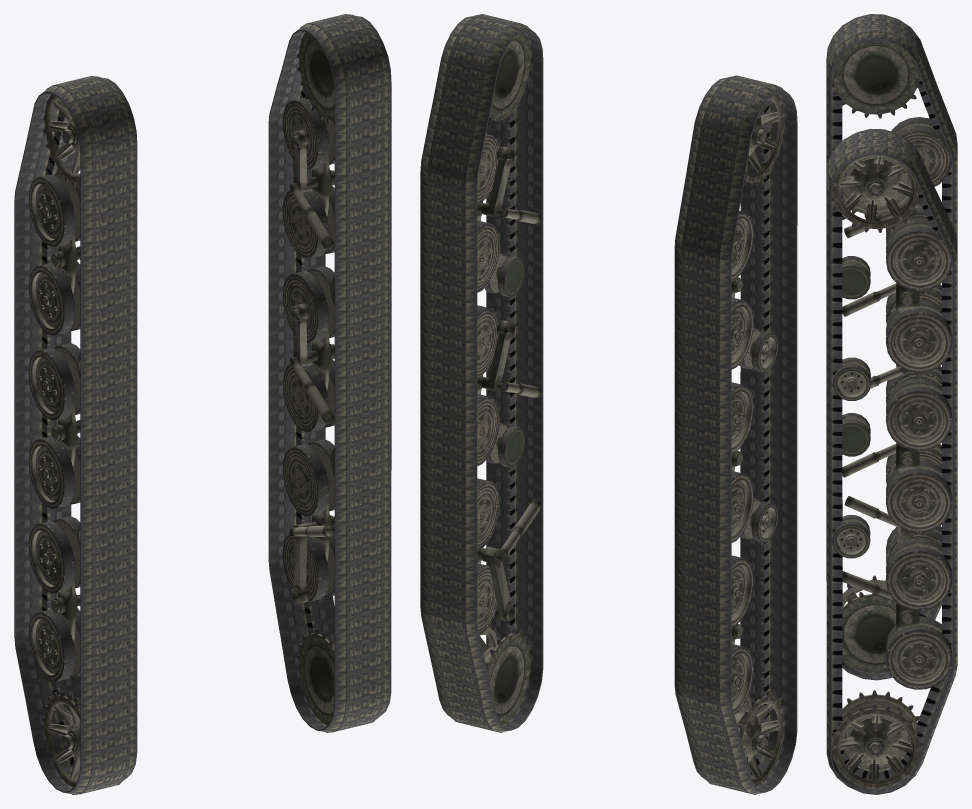
File: Chassis.glb
The picture shows the model from 3 angles, left to right: view 1: azimuth 30°, elevation 25°; view 2: azimuth 150°, elevation 25°; view 3: azimuth 270°, elevation 25°; orthographic projection. The views are drawn at different scales.
Parts seen in each view (by area): view 1: set_0_group_0, set_1_group_0, set_3_group_0, set_2_group_0; view 2: set_0_group_0, set_1_group_0, set_3_group_0, set_2_group_0; view 3: set_3_group_0, set_1_group_0, set_2_group_0, set_0_group_0.
Part boxes in pixels (box(x1,y1,x2,y2)): set_0_group_0: box(14, 76, 137, 794); set_1_group_0: box(268, 14, 391, 732); set_3_group_0: box(282, 32, 334, 725); set_2_group_0: box(28, 94, 80, 787); set_0_group_0: box(674, 75, 797, 794); set_1_group_0: box(420, 14, 543, 732); set_3_group_0: box(477, 32, 542, 724); set_2_group_0: box(731, 94, 784, 787); set_3_group_0: box(831, 155, 952, 788); set_1_group_0: box(826, 128, 957, 794); set_2_group_0: box(831, 40, 951, 673); set_0_group_0: box(826, 14, 957, 680).
Bounding box in the file's own units: 2.2 × 4.76 × 0.8742.
Materials: 4 (4 with a texture image).
